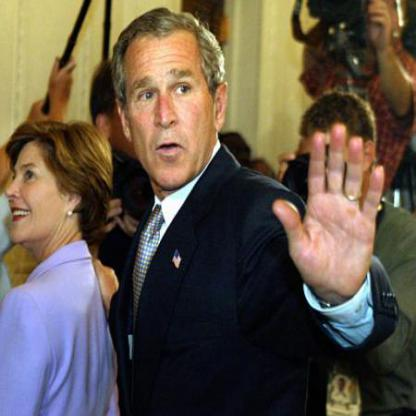face: (125, 14, 213, 191), (1, 128, 67, 248)
